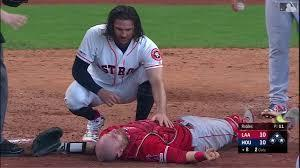Fall-Detected: (70, 105, 259, 165)
